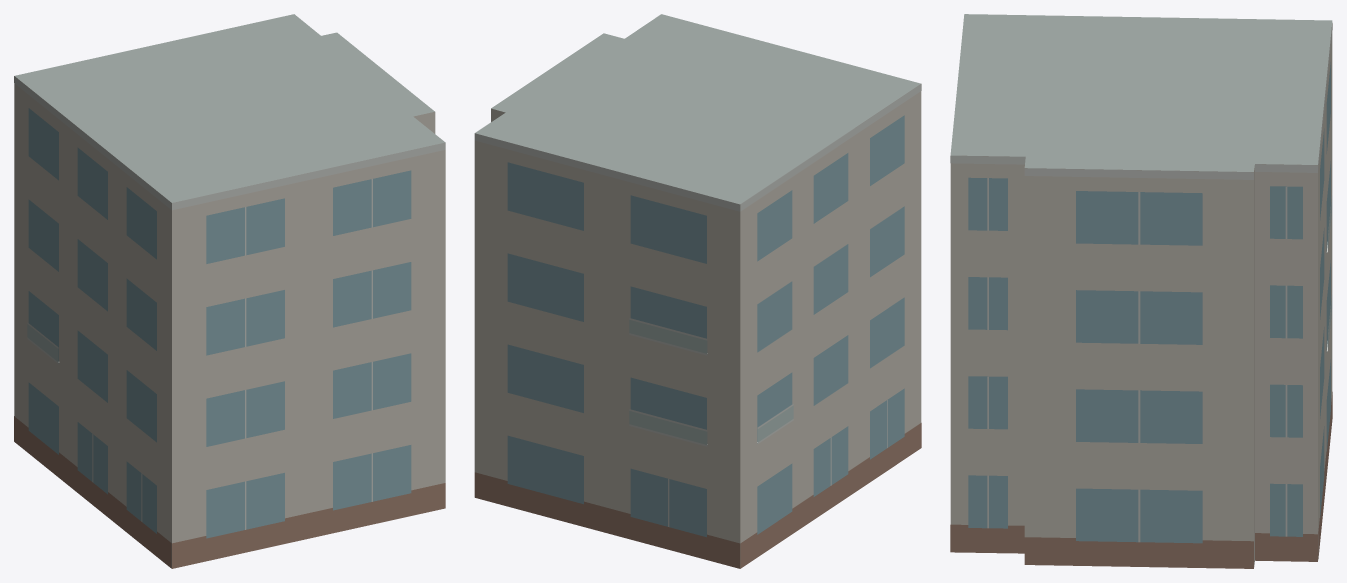
Rendered from survey-upis-32908520.glb.
3 renders of one model, left to right at view 1: azimuth 30°, elevation 25°; view 2: azimuth 150°, elevation 25°; view 3: azimuth 270°, elevation 25°, orthographic. The views are drawn at different scales.
Visible parts, largest first — view 1: survey-upis-32908520.tmp; view 2: survey-upis-32908520.tmp; view 3: survey-upis-32908520.tmp.
Boxes of the visible parts, x1,y1,x2,y2 form: survey-upis-32908520.tmp: (14,14,445,568); survey-upis-32908520.tmp: (474,14,921,568); survey-upis-32908520.tmp: (950,14,1332,568).
Size of the model in its own units: 10.43 by 12.2 by 10.66.
